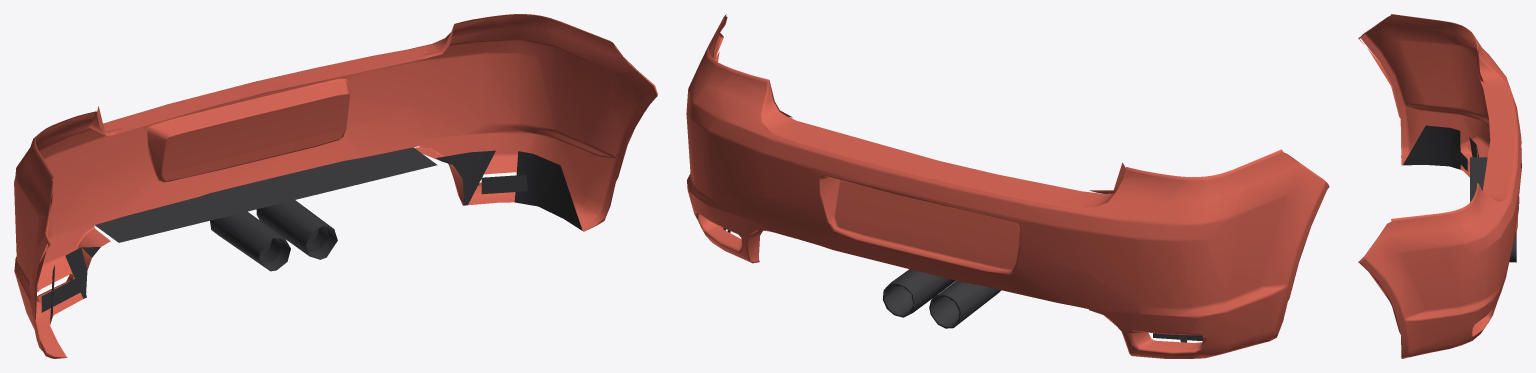
Rendered from wendtStrom_rearBumper_centerExhaust.glb.
3 renders of one model, left to right at view 1: azimuth 30°, elevation 25°; view 2: azimuth 150°, elevation 25°; view 3: azimuth 270°, elevation 25°, orthographic. The views are drawn at different scales.
Visible parts, largest first — view 1: rearBumper_centerExhaust; view 2: rearBumper_centerExhaust; view 3: rearBumper_centerExhaust.
Part boxes in pixels (x1=…): rearBumper_centerExhaust: x1=14, y1=14, x2=657, y2=358; rearBumper_centerExhaust: x1=686, y1=14, x2=1329, y2=358; rearBumper_centerExhaust: x1=1358, y1=14, x2=1521, y2=358.
Size of the model in its own units: 1.7 by 0.5188 by 0.523.
